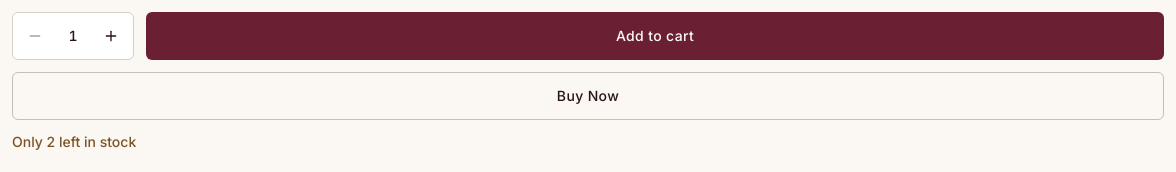
Test: AddToCartControls › caps the quantity stepper at the available stock
The width and height of the screenshot is (1176, 172).
What coordinates should you click on to do the following:
click the button named "Increase quantity"
I would click on:
 (111, 36)
Its box is [89, 13, 133, 59].
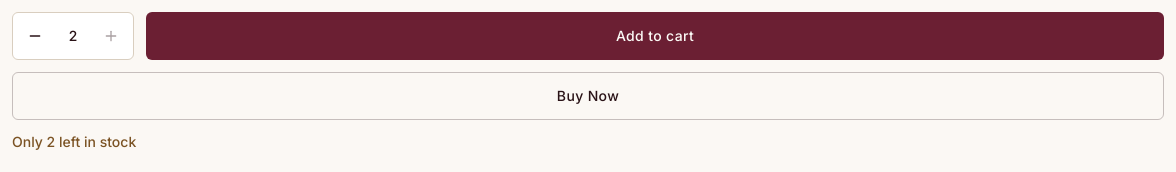
expect the text "2" is shown: met, box [68, 27, 78, 44]
expect the button named "Increase quantity" is disabled: met, box [89, 13, 133, 59]
